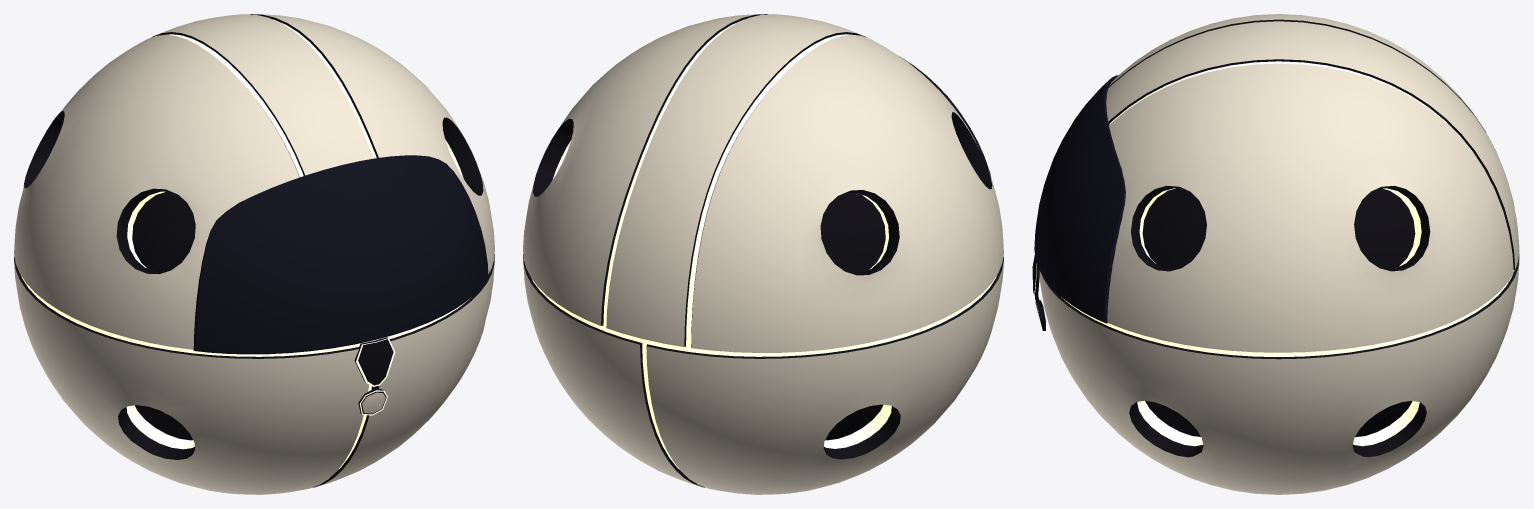
The model's file is Bunn.fbx.
The picture shows the model from 3 angles, left to right: view 1: azimuth 30°, elevation 25°; view 2: azimuth 150°, elevation 25°; view 3: azimuth 270°, elevation 25°; orthographic projection.
Parts seen in each view (by area): view 1: Corpinho, Tela; view 2: Corpinho; view 3: Corpinho, Tela.
Part boxes in pixels (x1,y1,x2,y2): Corpinho: (14, 14, 494, 494); Tela: (193, 155, 488, 415); Corpinho: (523, 14, 1003, 494); Corpinho: (1039, 14, 1519, 494); Tela: (1032, 75, 1125, 330).
Size of the model in its own units: 15.5 by 15.5 by 15.69.
